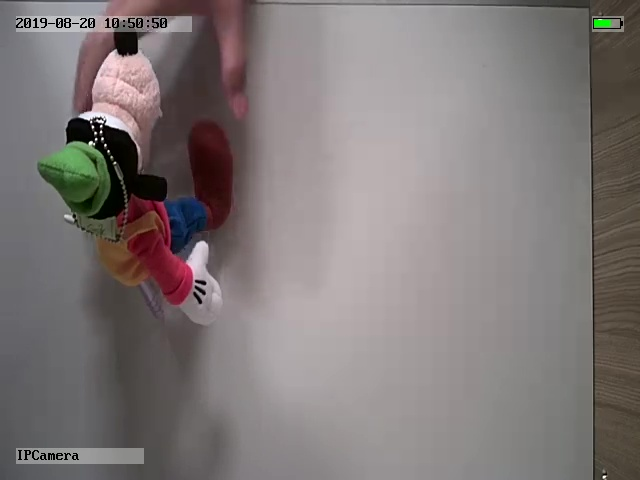goofy: (39, 23, 232, 329)
